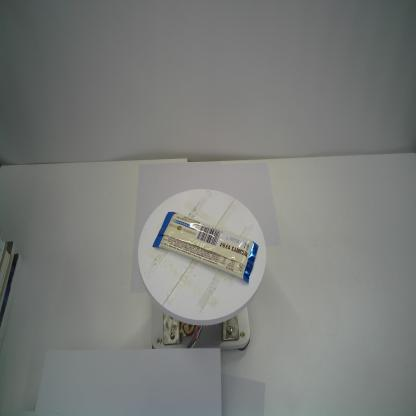Chocolate: (152, 211, 260, 285)
